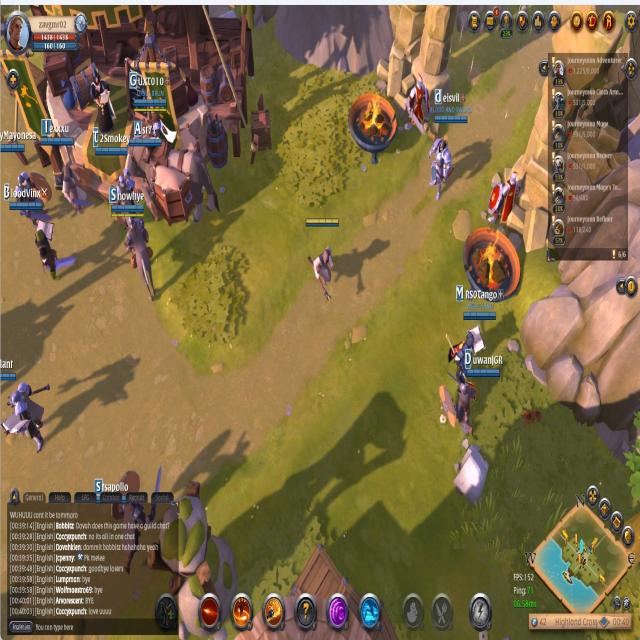stone: (448, 436, 492, 508)
